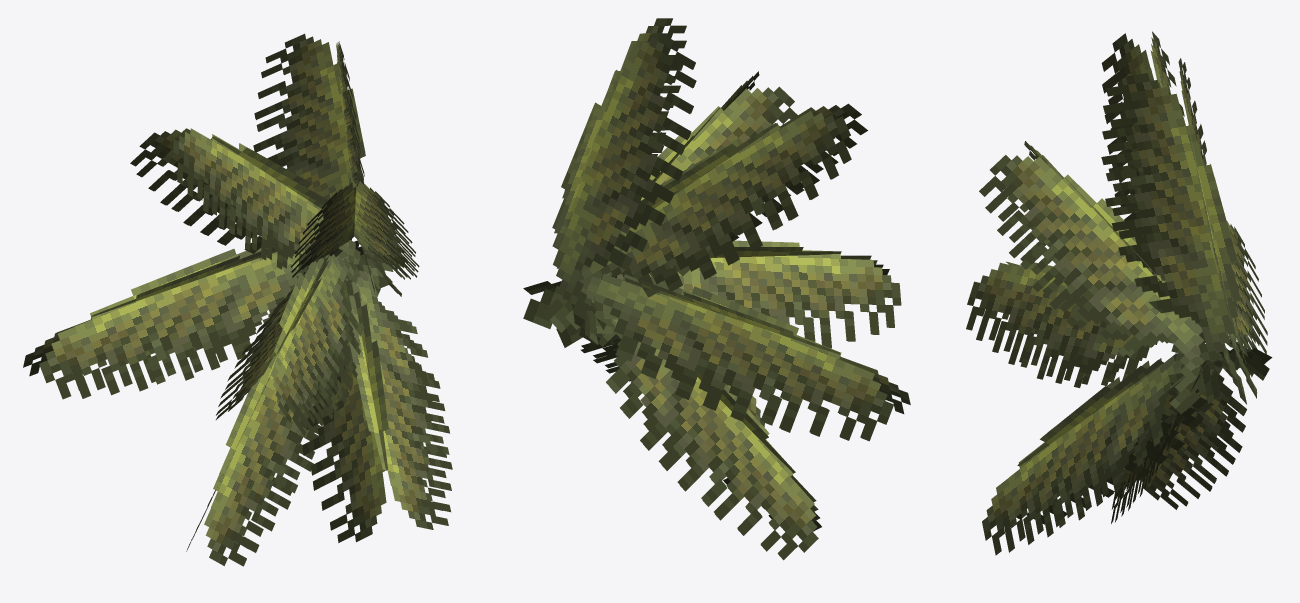
The model's file is palm_leaves_large_3.obj.
3 renders of one model, left to right at view 1: azimuth 30°, elevation 25°; view 2: azimuth 150°, elevation 25°; view 3: azimuth 270°, elevation 25°, orthographic. The views are drawn at different scales.
Visible parts, largest first — view 1: Frond.042_Cube.005, Frond.040_Cube.005, Frond.038_Cube.005, Frond.041_Cube.005, Frond.045_Cube.006, Frond.043_Cube.005, Frond.039_Cube.005; view 2: Frond.040_Cube.005, Frond.045_Cube.006, Frond.038_Cube.005, Frond.043_Cube.005, Frond.041_Cube.005, Frond.039_Cube.005, Frond.042_Cube.005; view 3: Frond.045_Cube.006, Frond.039_Cube.005, Frond.042_Cube.005, Frond.041_Cube.005, Frond.043_Cube.005, Frond.038_Cube.005, Frond.040_Cube.005.
Boxes of the visible parts, x1=… form: Frond.042_Cube.005: x1=302, y1=254, x2=452, y2=542; Frond.040_Cube.005: x1=23, y1=239, x2=388, y2=399; Frond.038_Cube.005: x1=130, y1=128, x2=364, y2=275; Frond.041_Cube.005: x1=216, y1=254, x2=380, y2=436; Frond.045_Cube.006: x1=253, y1=33, x2=375, y2=294; Frond.043_Cube.005: x1=186, y1=270, x2=384, y2=566; Frond.039_Cube.005: x1=290, y1=181, x2=419, y2=296; Frond.040_Cube.005: x1=523, y1=273, x2=910, y2=441; Frond.045_Cube.006: x1=552, y1=18, x2=696, y2=345; Frond.038_Cube.005: x1=556, y1=103, x2=867, y2=347; Frond.043_Cube.005: x1=543, y1=298, x2=821, y2=560; Frond.041_Cube.005: x1=586, y1=240, x2=901, y2=348; Frond.039_Cube.005: x1=580, y1=71, x2=797, y2=346; Frond.042_Cube.005: x1=523, y1=281, x2=764, y2=427; Frond.045_Cube.006: x1=1101, y1=58, x2=1253, y2=391; Frond.039_Cube.005: x1=979, y1=141, x2=1232, y2=414; Frond.042_Cube.005: x1=982, y1=348, x2=1272, y2=555; Frond.041_Cube.005: x1=966, y1=261, x2=1261, y2=394; Frond.043_Cube.005: x1=1111, y1=350, x2=1269, y2=523; Frond.038_Cube.005: x1=1101, y1=31, x2=1246, y2=404; Frond.040_Cube.005: x1=1175, y1=221, x2=1267, y2=398.
Bounding box in the file's own units: 4.1 × 5.25 × 2.94.
